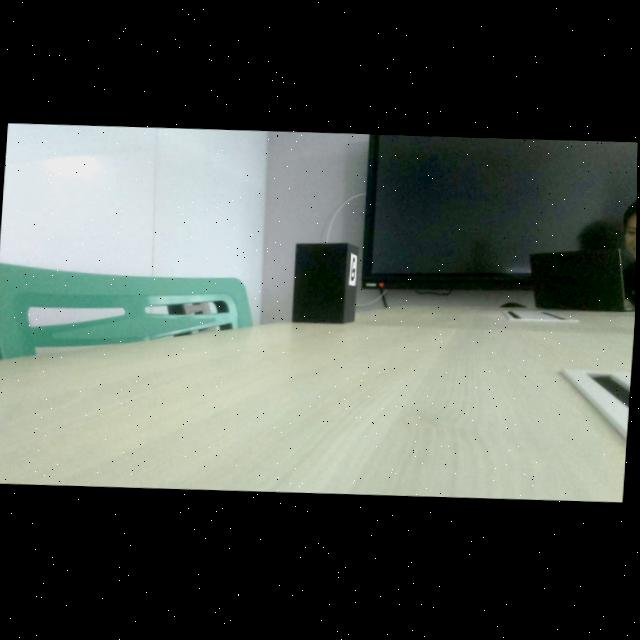G: (352, 259, 356, 283)
